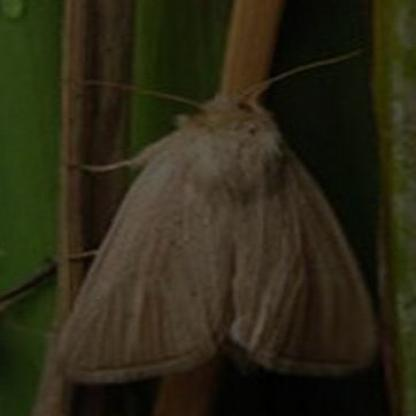stem-borer: (50, 46, 380, 384)
